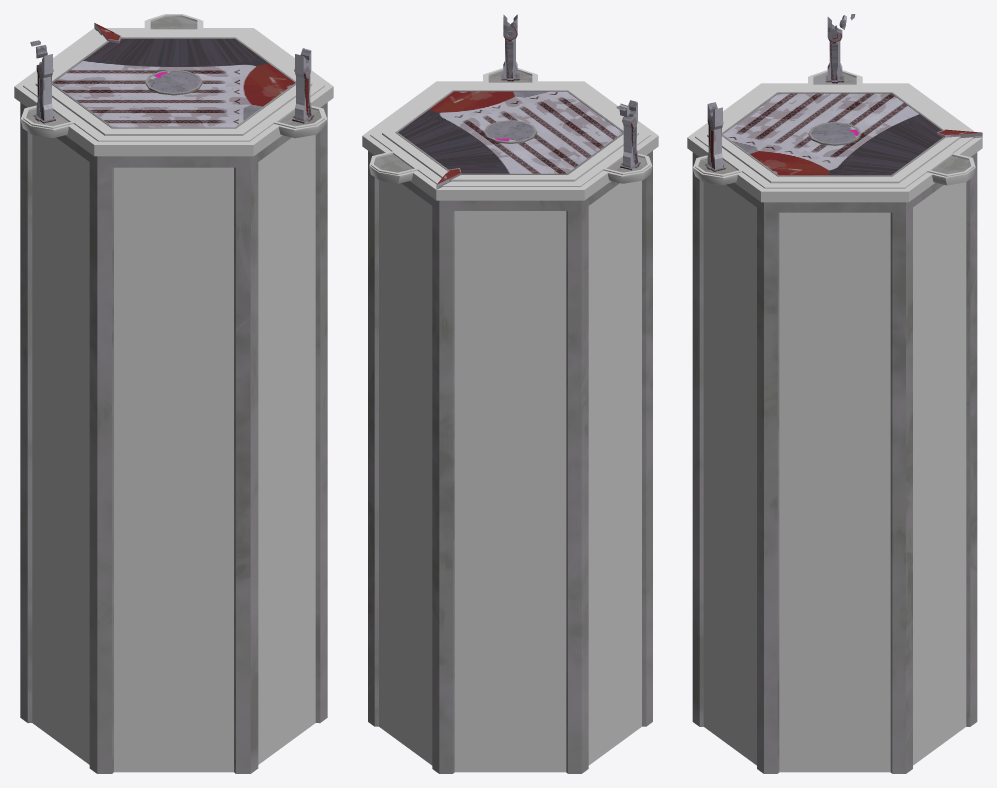
The model's file is Pedestal_Temp.fbx.
3 views of the same model, side by side, from view 1: azimuth 30°, elevation 25°; view 2: azimuth 150°, elevation 25°; view 3: azimuth 270°, elevation 25° (orthographic). The views are drawn at different scales.
Parts seen in each view (by area): view 1: Pedestal_A, Pedestal_Pillars.001, Pedestal_Pillars.002, Pedestal_A.002, Pedestal_A.003, Pedestal_A.001; view 2: Pedestal_A, Pedestal_Pillars.002, Pedestal_A.001, Pedestal_Pillars.001, Pedestal_A.002; view 3: Pedestal_A, Pedestal_Pillars.001, Pedestal_A.001, Pedestal_Pillars.002, Pedestal_A.003.
Boxes of the visible parts, x1,y1,x2,y2 form: Pedestal_A: [14, 26, 333, 773]; Pedestal_Pillars.001: [292, 48, 314, 123]; Pedestal_Pillars.002: [33, 54, 55, 123]; Pedestal_A.002: [20, 105, 68, 138]; Pedestal_A.003: [279, 105, 327, 138]; Pedestal_A.001: [144, 14, 203, 28]; Pedestal_A: [362, 80, 658, 773]; Pedestal_Pillars.002: [620, 100, 640, 170]; Pedestal_A.001: [369, 152, 412, 183]; Pedestal_Pillars.001: [501, 14, 519, 81]; Pedestal_A.002: [608, 153, 652, 183]; Pedestal_A: [687, 82, 982, 773]; Pedestal_Pillars.001: [705, 102, 725, 171]; Pedestal_A.001: [932, 154, 975, 185]; Pedestal_Pillars.002: [825, 16, 844, 83]; Pedestal_A.003: [693, 155, 737, 185].
Size of the model in its own units: 3996 by 9980 by 4125.
